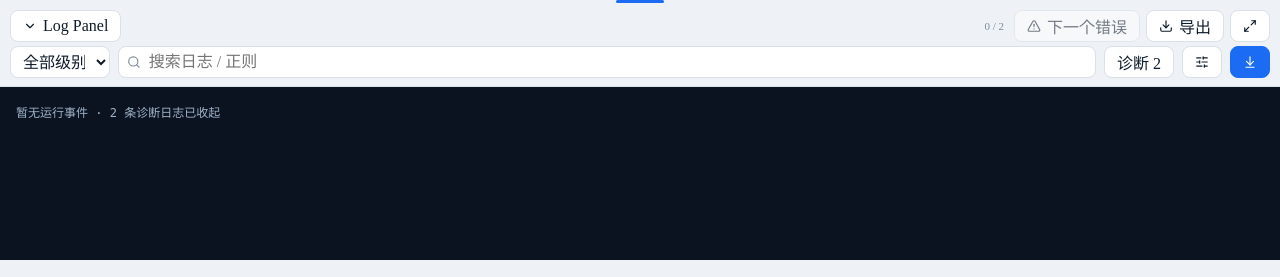
Test: 日志抽屉 › 通道和诊断预设按需展开，预设自动包含诊断
Expected: the button "Roll" is not shown
Click the button named "日志筛选". click: click(1202, 62)
box: [1182,46,1222,78]
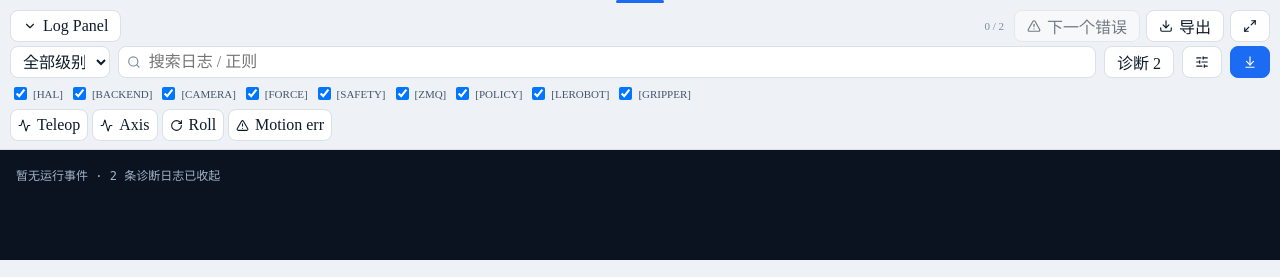
Click the button "Roll". click: click(193, 125)
box: [162,109,224,141]
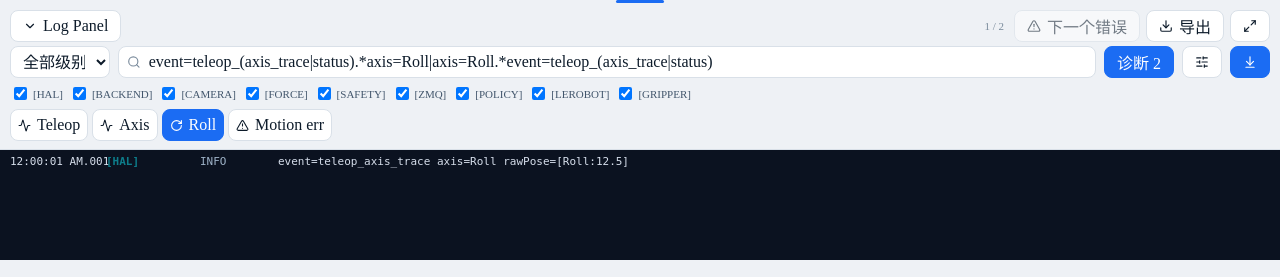
Result: the text "event=teleop_axis_trace axis=Roll rawPose=[Roll:12.5]" is shown at [278,154,629,168]
